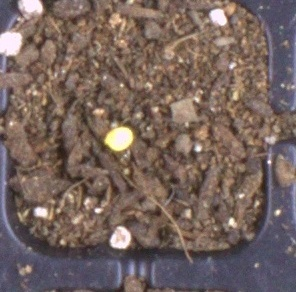chilli seed: (104, 126, 134, 152)
